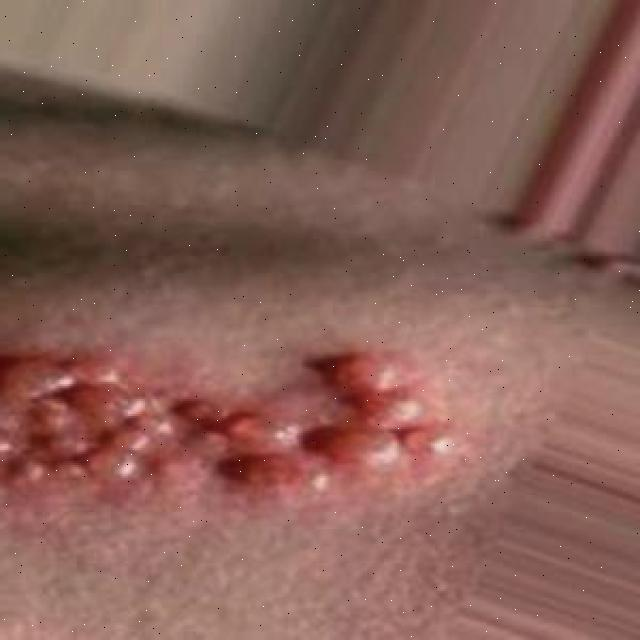Shingles: (0, 349, 463, 491)
